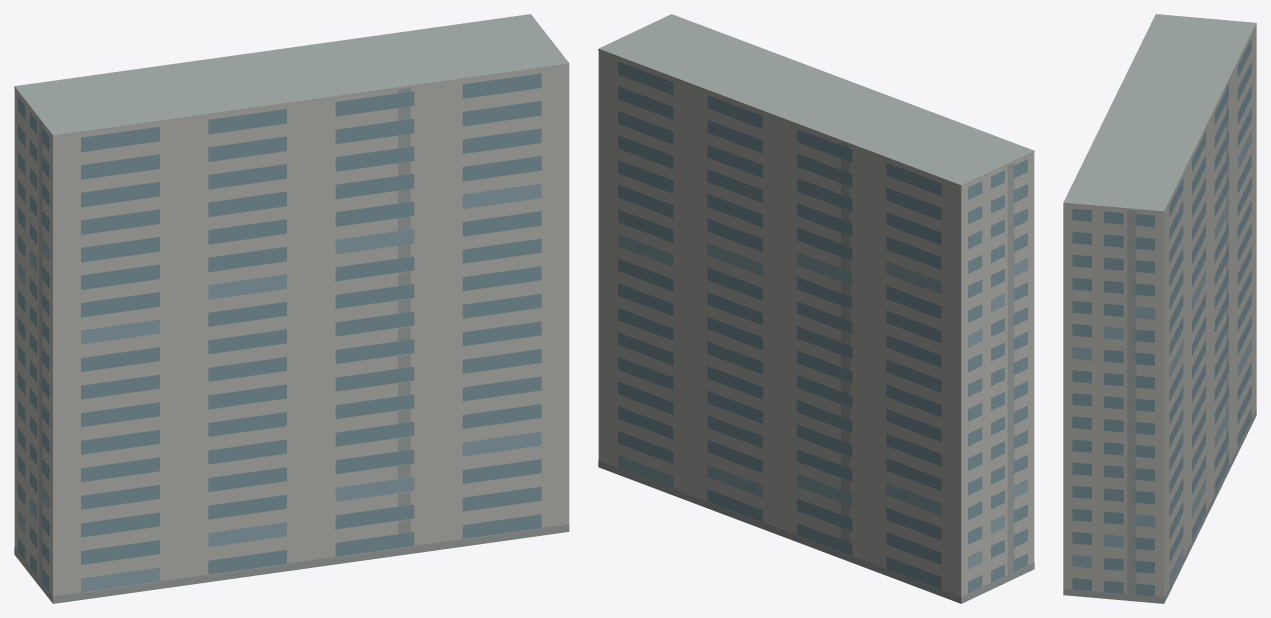
File: residential-e099e5dc-59c7-4bb9-a4f7-4903809f51d3.glb
The picture shows the model from 3 angles, left to right: view 1: azimuth 30°, elevation 25°; view 2: azimuth 150°, elevation 25°; view 3: azimuth 270°, elevation 25°; orthographic projection. The views are drawn at different scales.
Parts seen in each view (by area): view 1: residential-e099e5dc-59c7-4bb9-a4f7-4903809f51d3.tmp; view 2: residential-e099e5dc-59c7-4bb9-a4f7-4903809f51d3.tmp; view 3: residential-e099e5dc-59c7-4bb9-a4f7-4903809f51d3.tmp.
Part boxes in pixels (x1,y1,x2,y2): residential-e099e5dc-59c7-4bb9-a4f7-4903809f51d3.tmp: [14, 14, 569, 603]; residential-e099e5dc-59c7-4bb9-a4f7-4903809f51d3.tmp: [598, 14, 1034, 603]; residential-e099e5dc-59c7-4bb9-a4f7-4903809f51d3.tmp: [1063, 14, 1256, 603].
Bounding box in the file's own units: 50.7 × 47 × 20.98.
